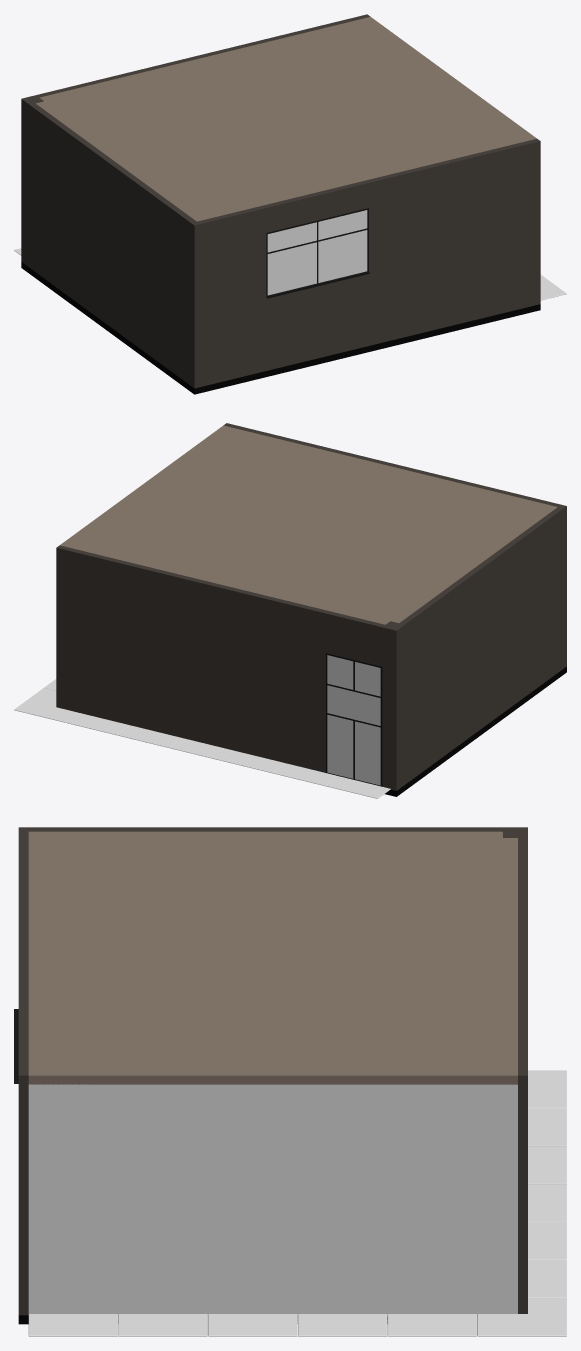
File: Gaming_Room(online)-FBX.fbx
3 renders of one model, top to bottom at view 1: azimuth 30°, elevation 25°; view 2: azimuth 150°, elevation 25°; view 3: azimuth 270°, elevation 25°, orthographic. The views are drawn at different scales.
Parts seen in each view (by area): view 1: Cube.072, Cube.002, Cube.004, Cube.003, Window.001, Window.009, Cube.001, Window.010, Window.011; view 2: Cube.072, Cube.001, Cube.004, Cube.002, Window.022, Window, Window.023, Cube.003, Cube.150, Window.020, Window.021, Cube.144 (+5 smaller); view 3: Cube.072, Cube.073, Cube.002, Cube.001, Cube.150, Cube.004, Cube.143, Cube.122, Cube.129, Cube.115, Cube.136, Cube.144 (+5 smaller).
Boxes of the visible parts, x1,y1,x2,y2 form: Cube.072: [36, 17, 536, 221]; Cube.002: [191, 139, 540, 388]; Cube.004: [24, 100, 196, 385]; Cube.003: [21, 262, 540, 394]; Window.001: [267, 242, 316, 295]; Window.009: [318, 230, 367, 282]; Cube.001: [21, 14, 370, 263]; Window.010: [267, 222, 316, 252]; Window.011: [318, 210, 367, 240]; Cube.072: [60, 425, 557, 624]; Cube.001: [56, 545, 399, 790]; Cube.004: [394, 507, 563, 788]; Cube.002: [223, 423, 566, 668]; Window.022: [327, 714, 353, 778]; Window: [327, 685, 380, 725]; Window.023: [355, 721, 380, 785]; Cube.003: [385, 666, 566, 796]; Cube.150: [14, 688, 78, 722]; Window.020: [327, 655, 353, 689]; Window.021: [355, 662, 380, 696]; Cube.144: [326, 776, 390, 798]; Cube.072: [28, 831, 517, 1084]; Cube.073: [28, 1084, 517, 1323]; Cube.002: [18, 827, 28, 1315]; Cube.001: [518, 827, 527, 1313]; Cube.150: [477, 1298, 566, 1336]; Cube.004: [28, 827, 517, 831]; Cube.143: [387, 1314, 477, 1336]; Cube.122: [118, 1314, 207, 1336]; Cube.129: [208, 1314, 297, 1336]; Cube.115: [28, 1314, 117, 1336]; Cube.136: [298, 1314, 387, 1336]; Cube.144: [528, 1070, 566, 1108].
Size of the model in its own units: 652 by 280 by 565.
